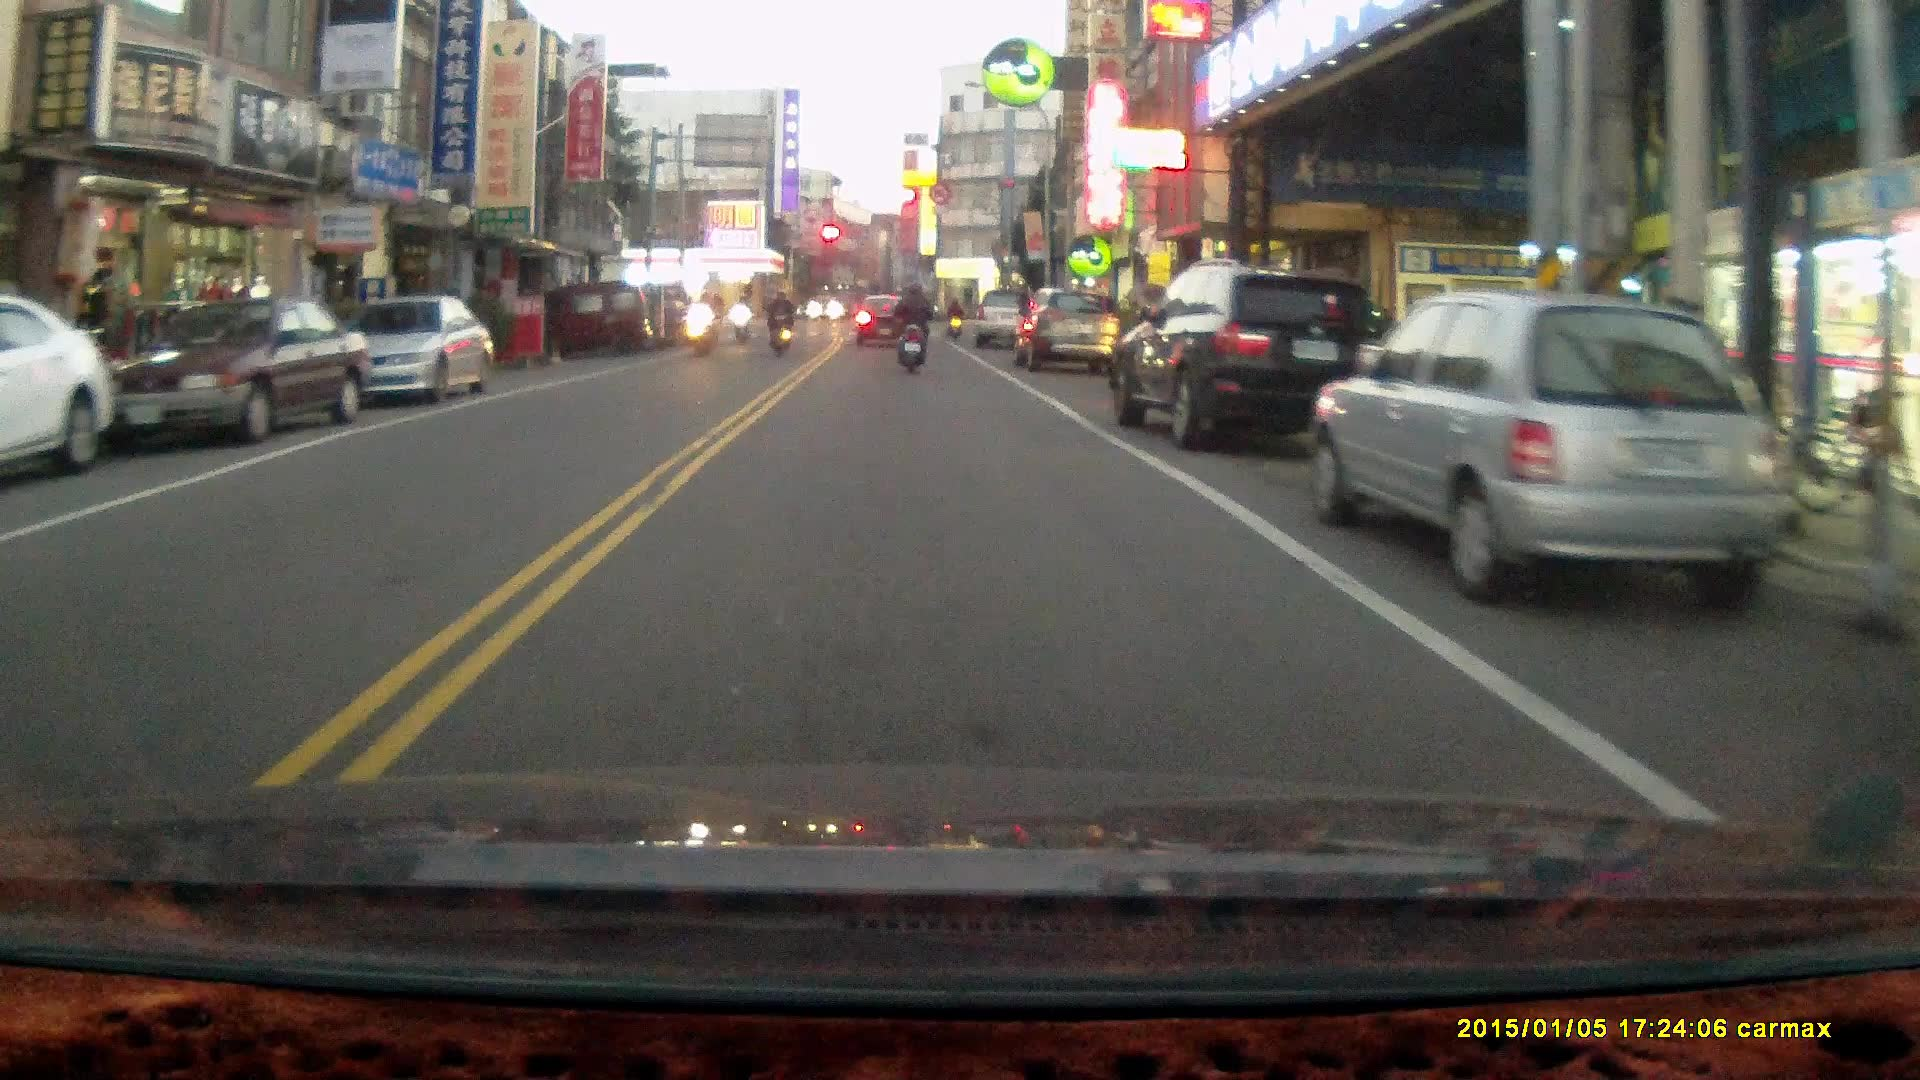rider: (890, 280, 931, 377), (688, 288, 719, 357), (765, 287, 794, 354), (729, 294, 753, 350), (943, 296, 965, 340)
vehicle: (1306, 291, 1799, 600), (1115, 263, 1391, 454), (89, 295, 372, 447), (1, 300, 122, 492), (334, 294, 494, 405), (1016, 292, 1124, 376), (565, 284, 660, 354), (972, 289, 1041, 354)
